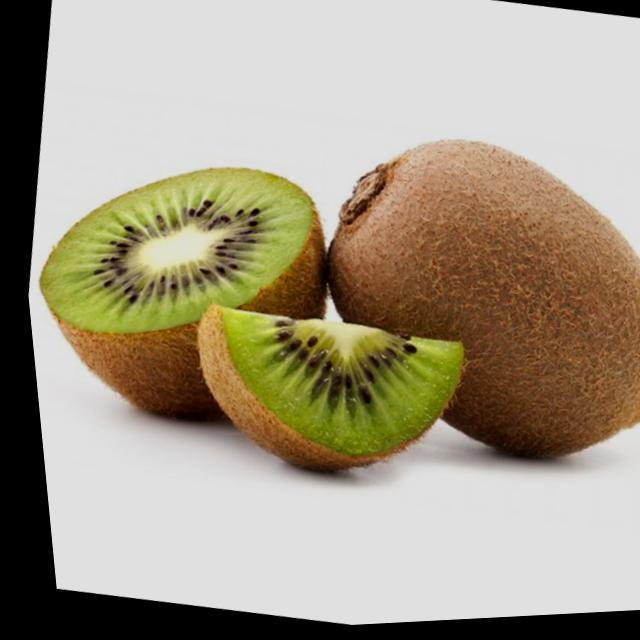kiwi: (275, 110, 640, 502)
